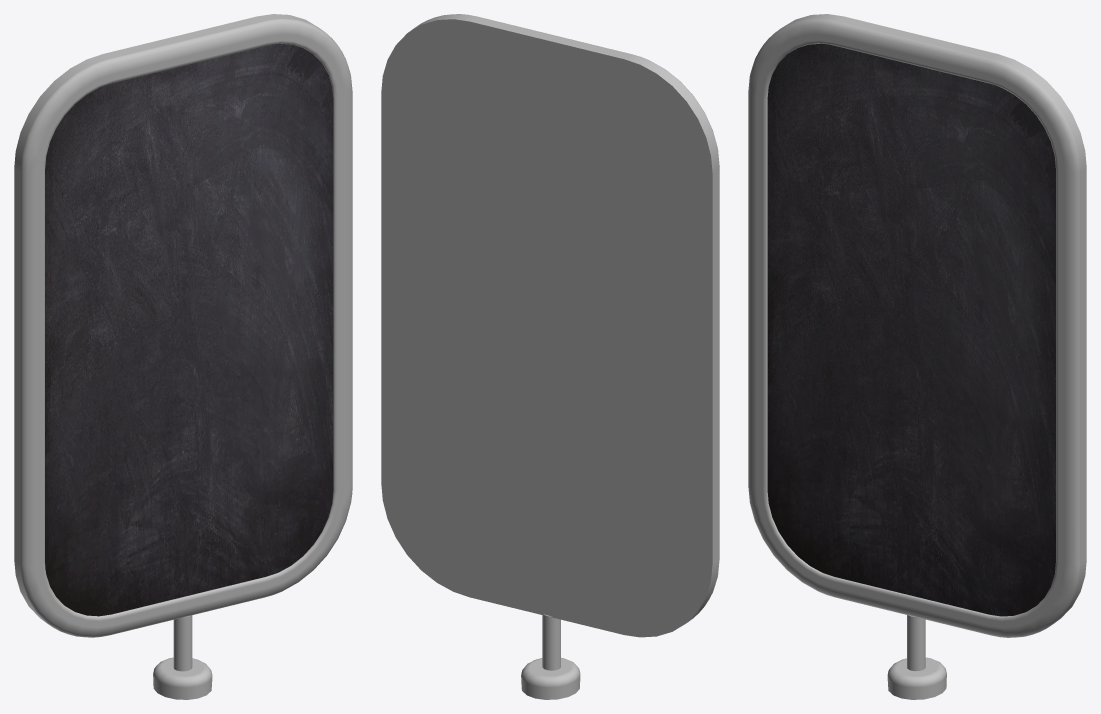
File: bulletin-board.glb
3 renders of one model, left to right at view 1: azimuth 30°, elevation 25°; view 2: azimuth 150°, elevation 25°; view 3: azimuth 330°, elevation 25°, orthographic.
Visible parts, largest first — view 1: blinn4, blinn2, lambert1; view 2: blinn2, lambert1; view 3: blinn4, blinn2, lambert1.
Boxes of the visible parts, x1,y1,x2,y2 form: blinn4: (45, 43, 333, 616); blinn2: (14, 14, 352, 637); lambert1: (153, 615, 212, 699); blinn2: (381, 14, 719, 637); lambert1: (521, 614, 580, 699); blinn4: (767, 43, 1055, 616); blinn2: (748, 14, 1086, 637); lambert1: (887, 615, 946, 699).
Size of the model in its own units: 0.4805 by 0.9 by 0.0782.
3 materials, 1 textured.
